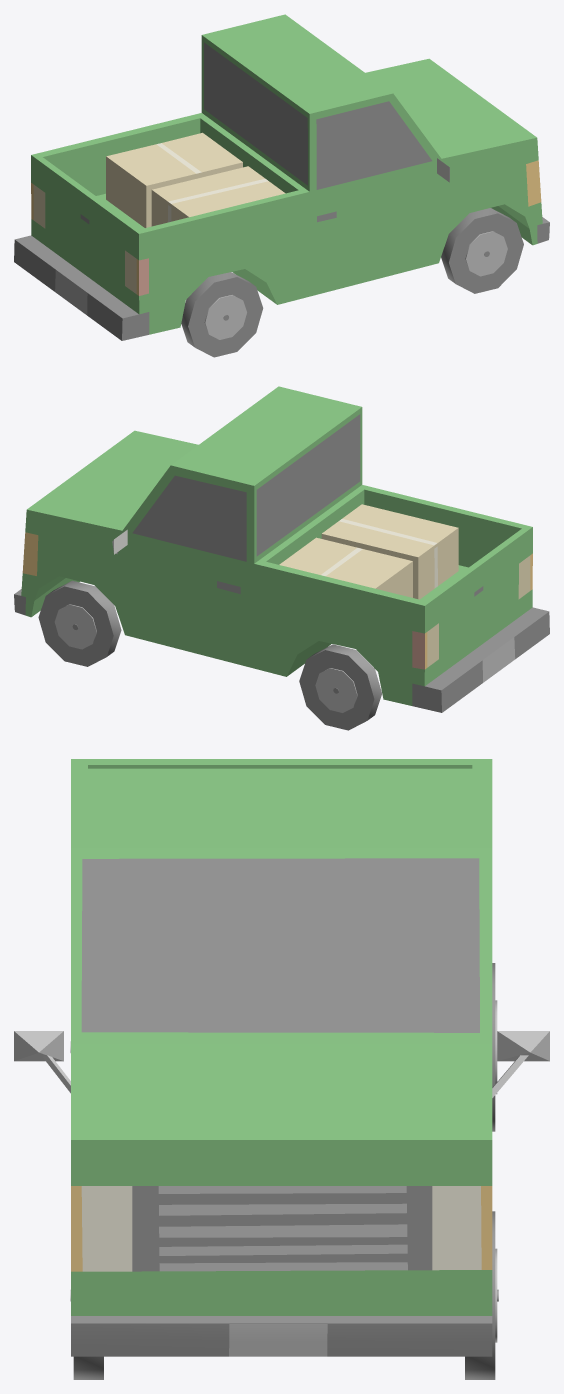
Rendered from kar_18.fbx.
3 renders of one model, top to bottom at view 1: azimuth 30°, elevation 25°; view 2: azimuth 150°, elevation 25°; view 3: azimuth 270°, elevation 25°, orthographic. The views are drawn at different scales.
Parts seen in each view (by area): view 1: Cube, Cylinder_6, Cylinder_9; view 2: Cube, Cylinder_8, Cylinder_7; view 3: Cube, Cylinder_7, Cylinder_8, Cylinder_6.
Boxes of the visible parts, x1,y1,x2,y2 form: Cube: [14, 14, 549, 340]; Cylinder_6: [441, 208, 523, 293]; Cylinder_9: [181, 272, 263, 357]; Cube: [14, 386, 549, 712]; Cylinder_8: [299, 644, 381, 730]; Cylinder_7: [38, 580, 121, 666]; Cube: [14, 759, 549, 1356]; Cylinder_7: [465, 1211, 498, 1379]; Cylinder_8: [492, 963, 497, 1131]; Cylinder_6: [70, 1290, 103, 1379].
Bounding box in the file's own units: 435 × 215 × 242.
